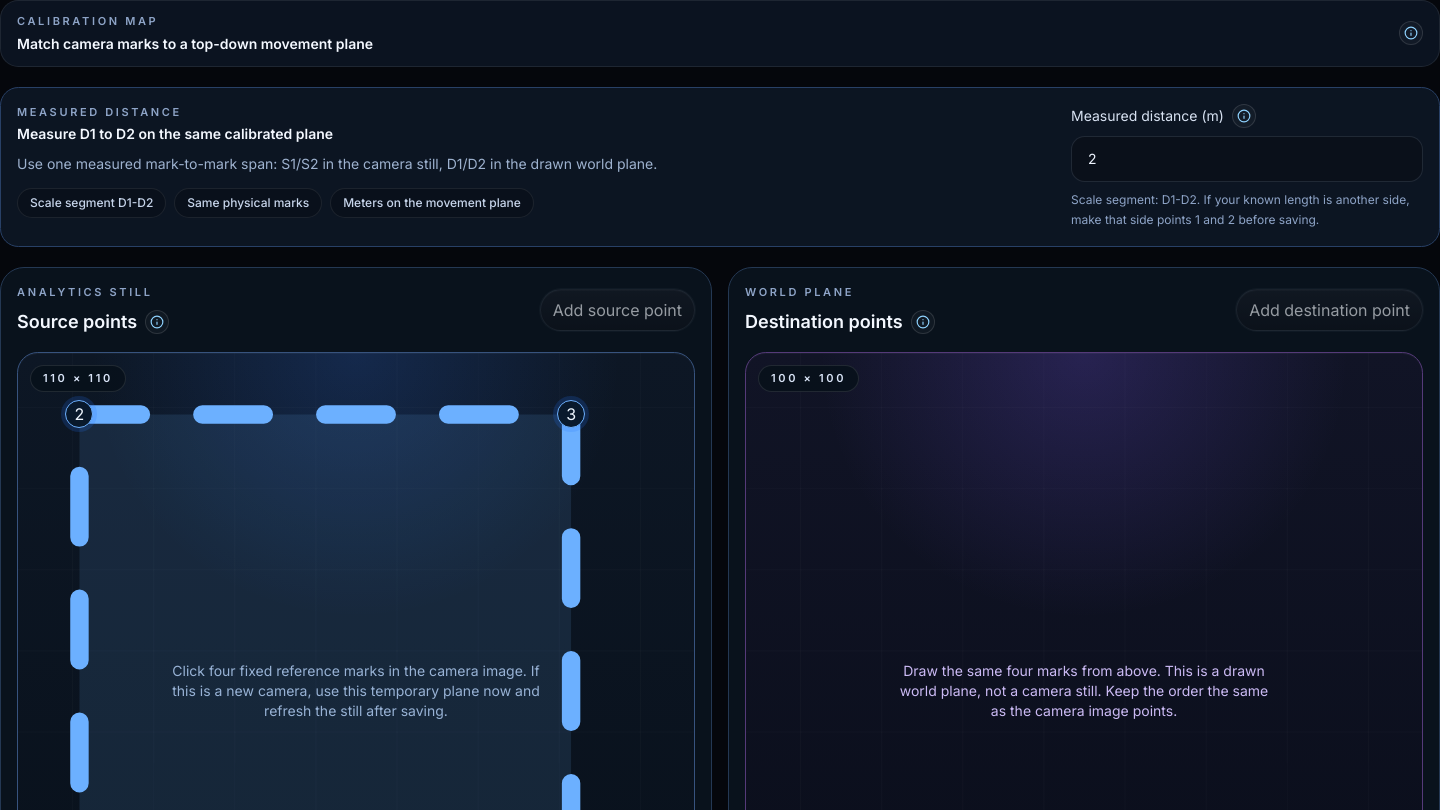
it: HomographyEditor › keeps measured distance compact with the full tutorial behind help
Expected: the heading "Measure D1 to D2 on the same calibrated plane" is shown, x1=17 y1=125 x2=333 y2=142
Expected: the text "s1/s2 in the camera still, d1/d2 in the drawn world plane" is shown, x1=17 y1=155 x2=657 y2=172
What coordinates should you click on to do the following:
click the button named "show measured distance help"
I would click on:
 (1244, 116)
Its box is x1=1232 y1=104 x2=1256 y2=128.
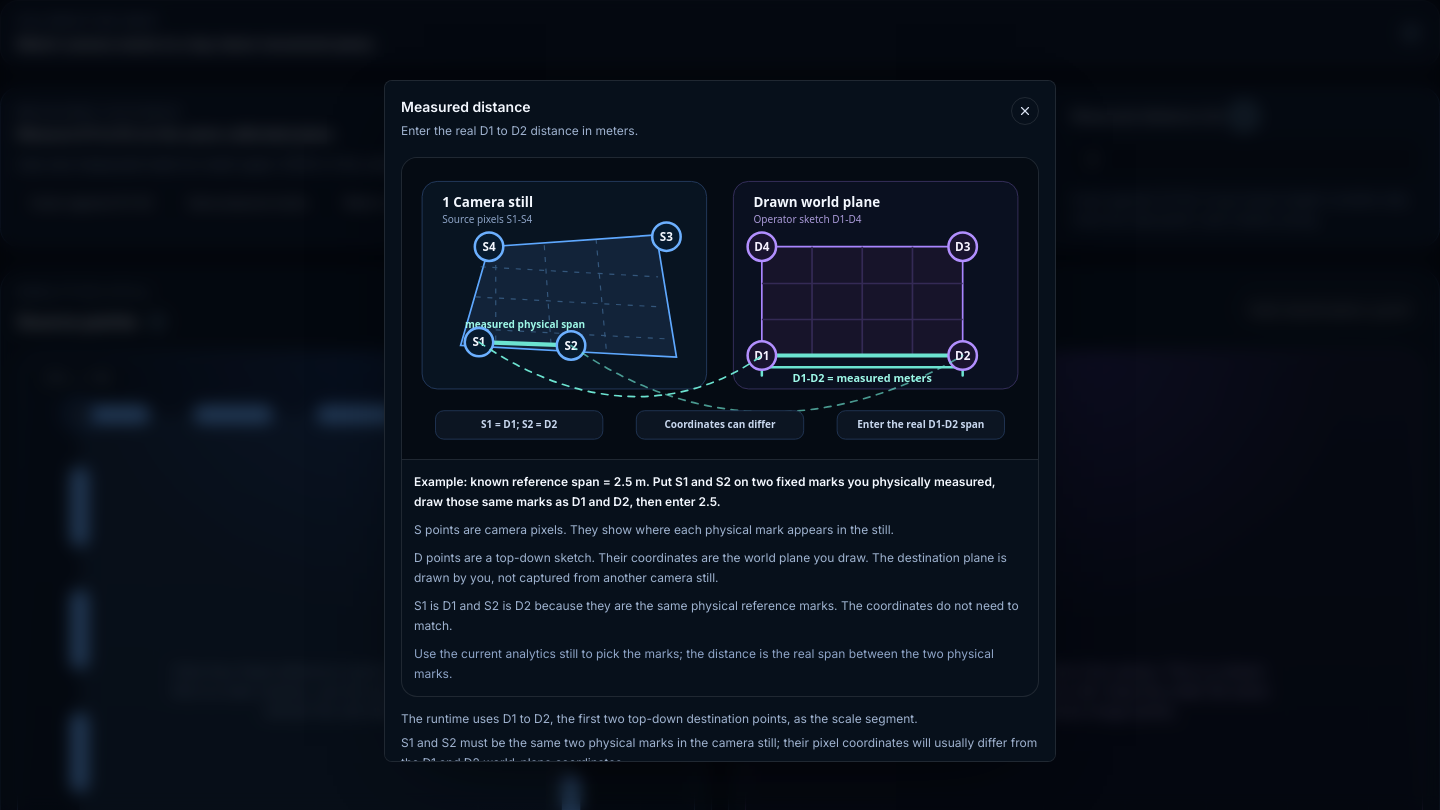
Expected: the picture named "calibrated span measured distance example" is shown, x1=402 y1=158 x2=1038 y2=459
